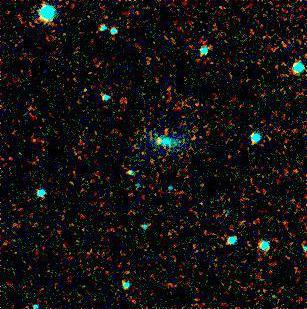star: (142, 129, 172, 159)
